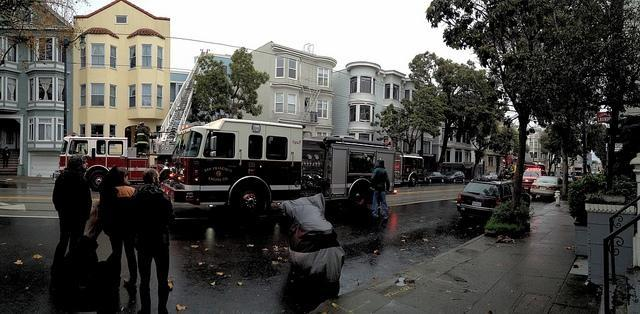car: (458, 180, 530, 213), (529, 176, 564, 198), (522, 165, 548, 192), (418, 172, 447, 184), (444, 171, 466, 183), (484, 173, 500, 180), (574, 171, 584, 180)
truck: (162, 118, 394, 219), (55, 131, 173, 189)
